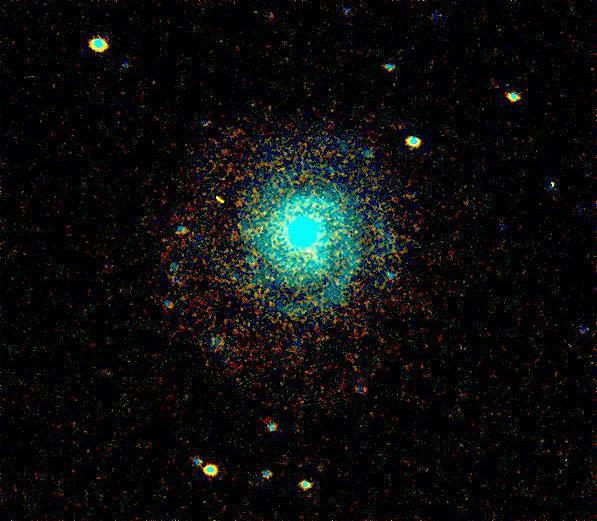star: (208, 180, 238, 210)
